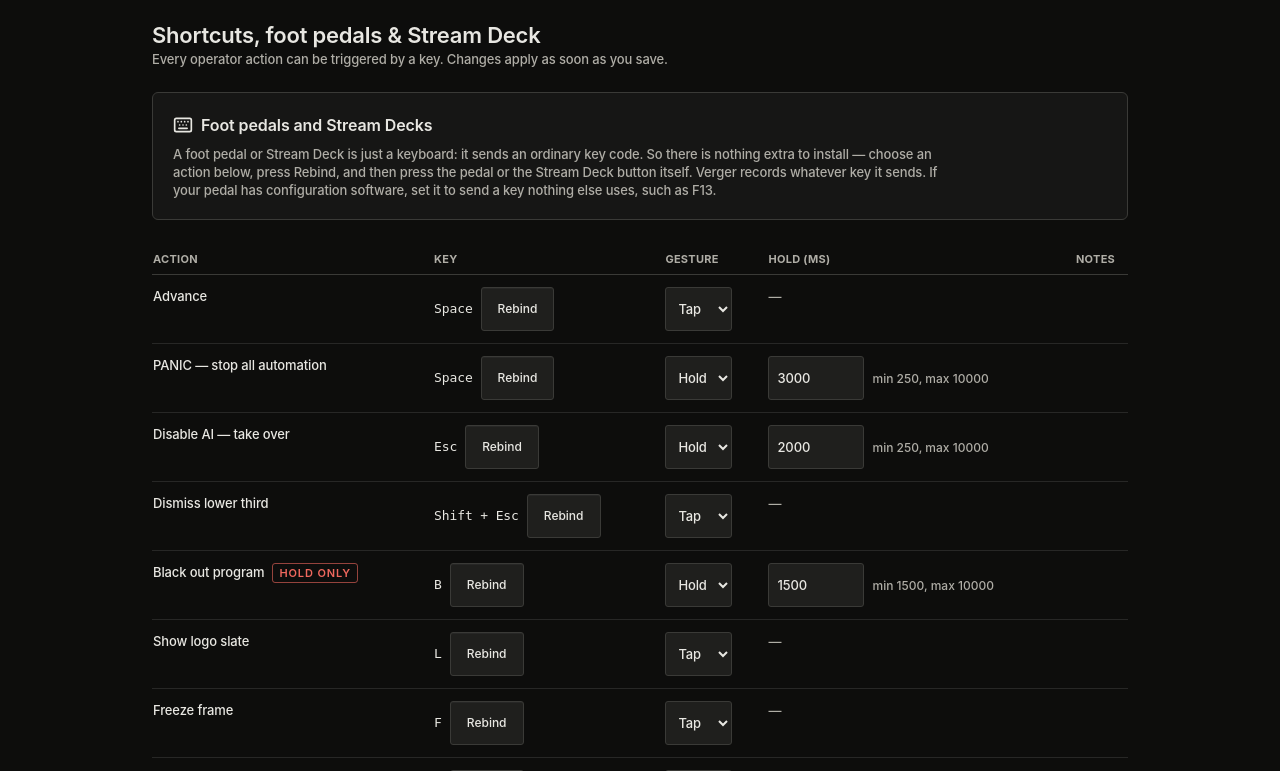
Scenario: ShortcutSettings › records whatever key is pressed during capture — this is how a pedal is bound
The width and height of the screenshot is (1280, 771).
Step 1. Click the button with aria-label "rebind show logo slate" → (487, 654), box [450,632,524,676]
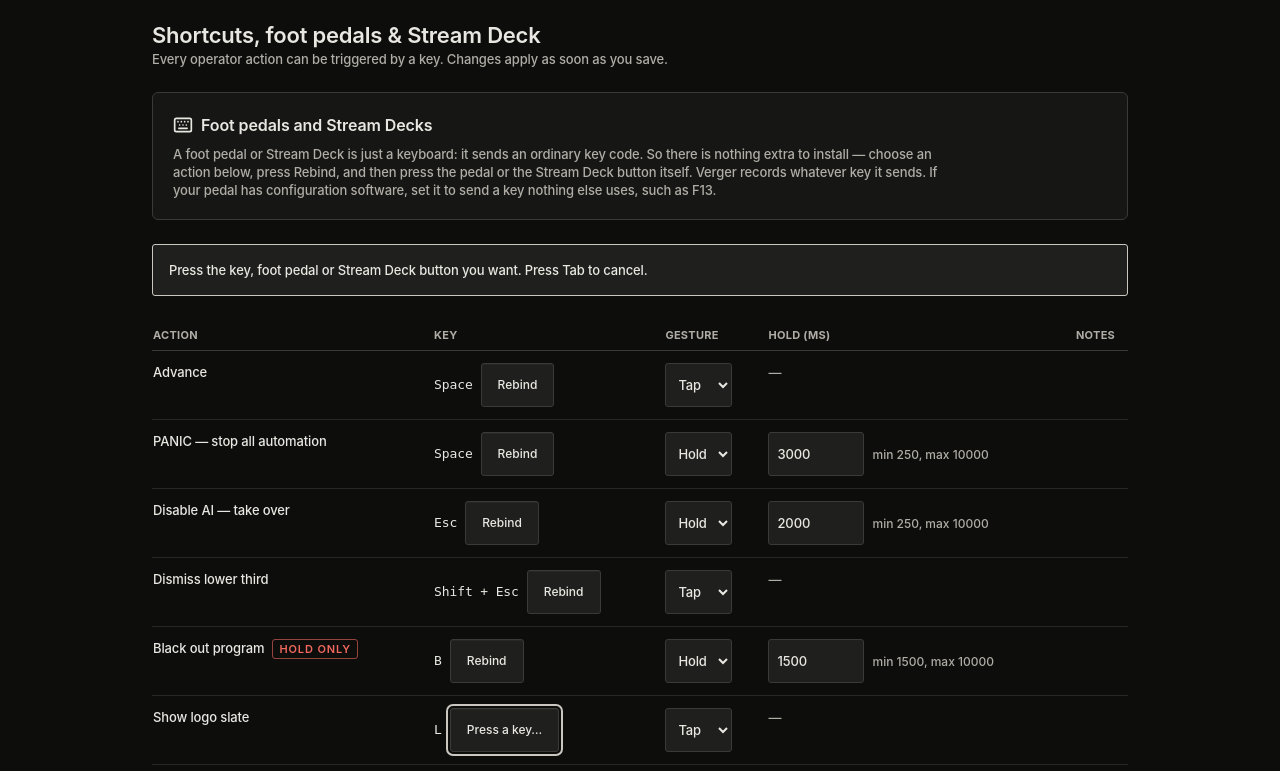
Result: the text "Press the key, foot pedal or Stream Deck button you want. Press Tab to cancel." is shown at [152,244,1128,296]
// The operator stamps on the pedal. It is a keyboard, so a key code arrives.
Step 2. Press F13
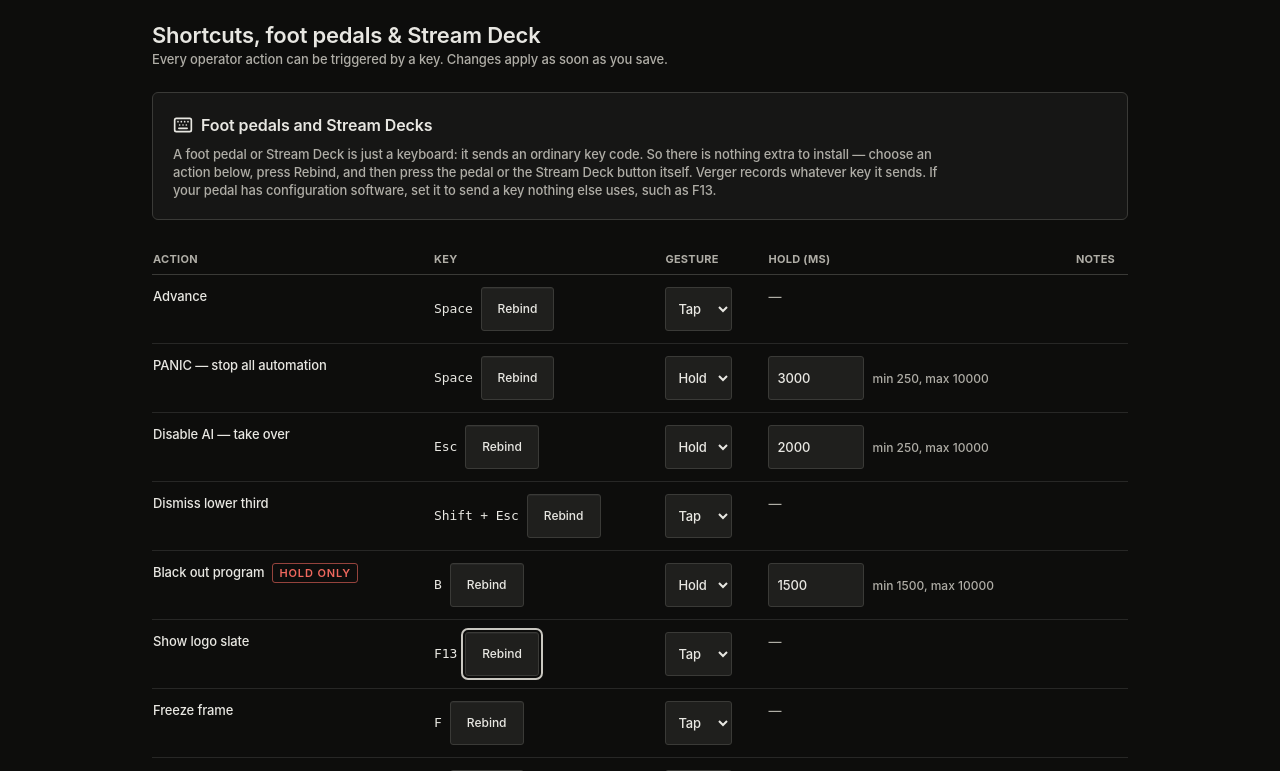
Result: the text "F13" is shown at [434,646,457,661]
Result: the text "Press the key, foot pedal" is gone
